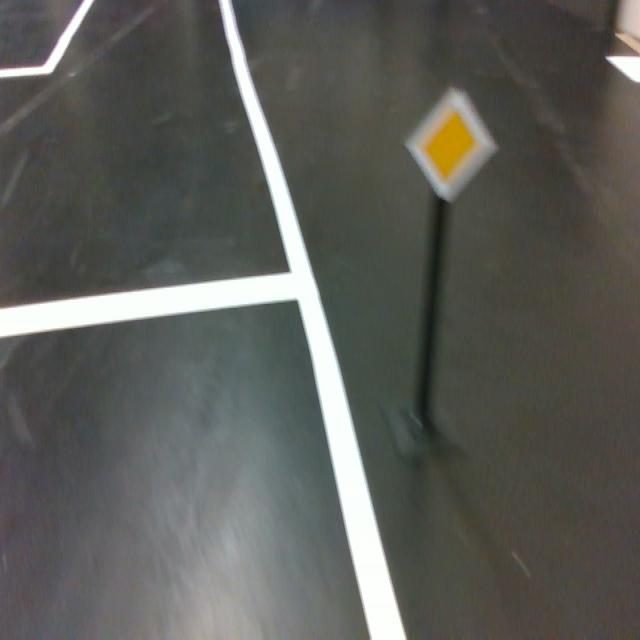priority-sign: (404, 86, 498, 203)
